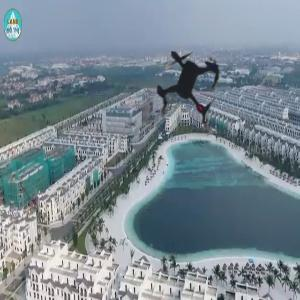drone: (107, 5, 265, 163)
